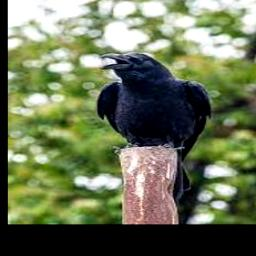Crow: (95, 52, 212, 206)
